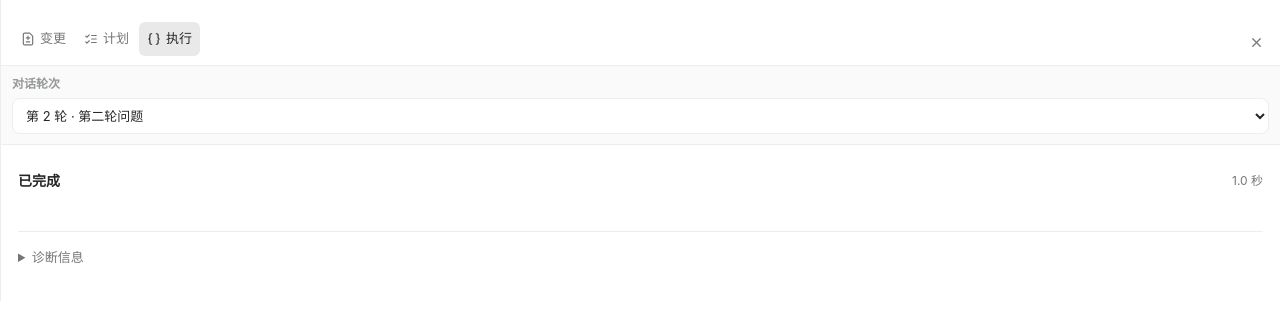
Test case: DiffPanel › switches between every conversation turn
The image size is (1280, 318).
Click the button "计划". click: x=106, y=39
box: 76,22 -> 137,56
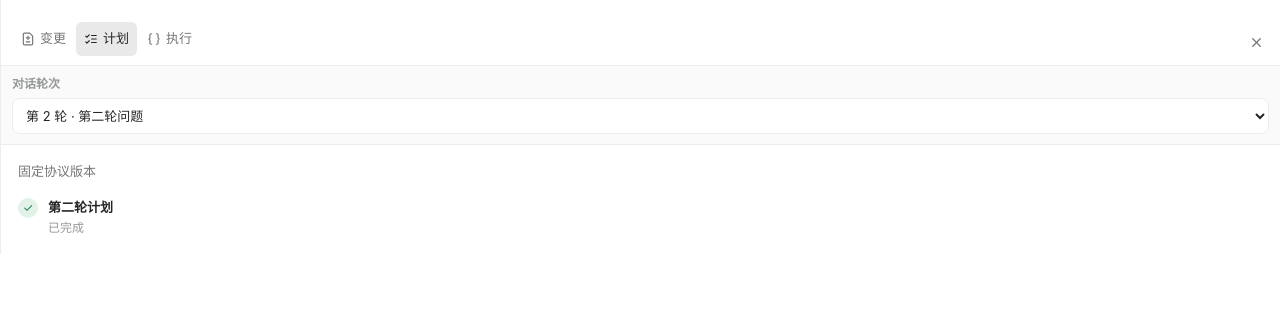
Now the text "第二轮计划" is shown, box 48,198 -> 113,214
Select "第 1 轮 · 第一轮问题" in the dropdown labelled "对话轮次". click: x=640, y=116
box: 12,98 -> 1269,134
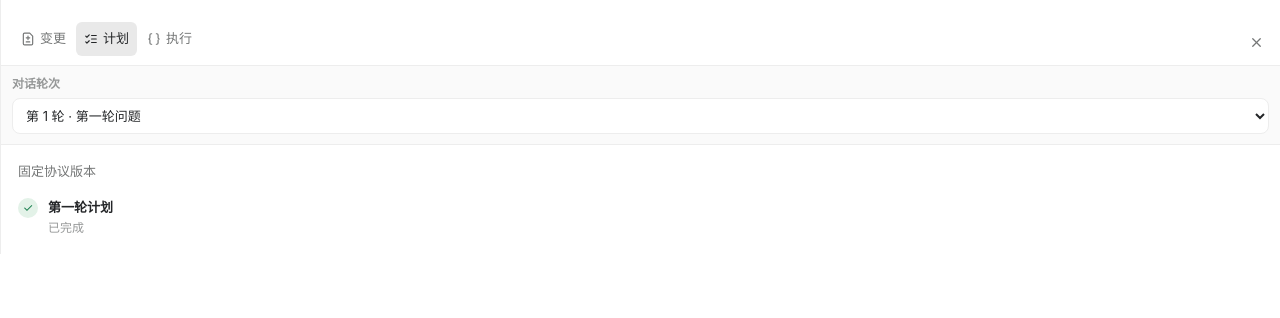
Now the text "第一轮计划" is shown, box 48,198 -> 113,214
